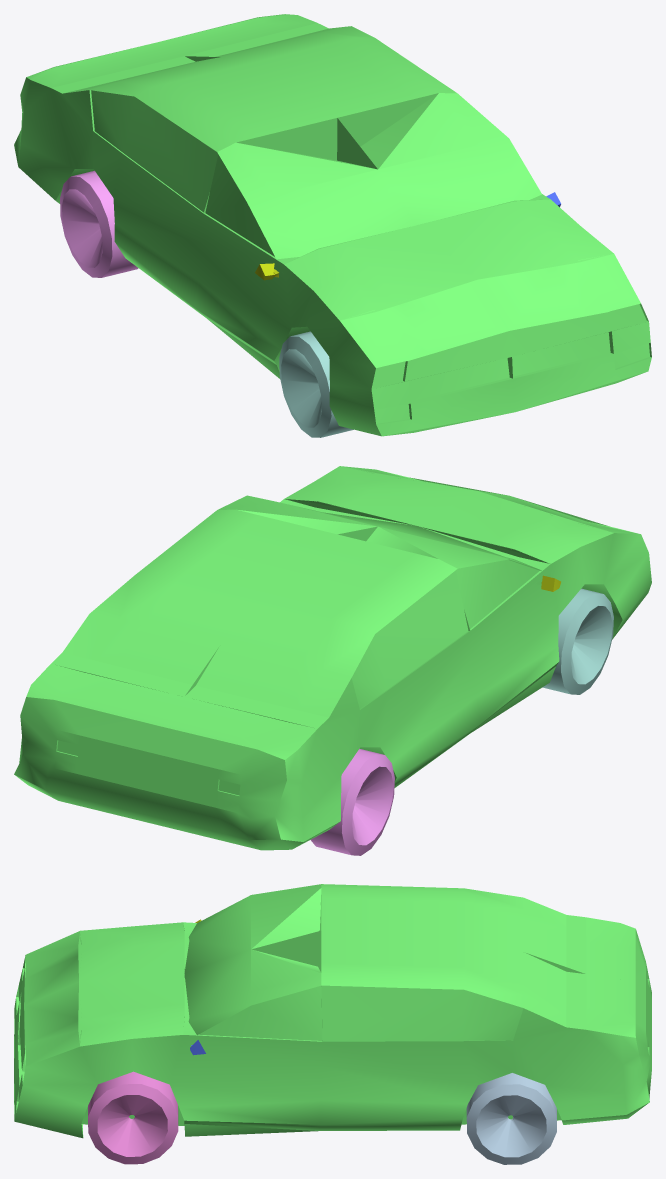
3 views of the same model, one above another, from view 1: azimuth 30°, elevation 25°; view 2: azimuth 150°, elevation 25°; view 3: azimuth 270°, elevation 25° (orthographic). The views are drawn at different scales.
Visible parts, largest first — view 1: split_parent_0, split_parent_2, Object_4.055; view 2: split_parent_0, split_parent_2, Object_4.055; view 3: split_parent_0, Object_4.114, Object_4.119.
Part boxes in pixels (x1,y1,x2,y2): split_parent_0: [14, 14, 651, 436]; split_parent_2: [60, 170, 138, 277]; Object_4.055: [279, 331, 353, 437]; split_parent_0: [14, 466, 651, 850]; split_parent_2: [311, 748, 394, 855]; Object_4.055: [542, 588, 613, 694]; split_parent_0: [14, 884, 651, 1138]; Object_4.114: [88, 1071, 178, 1164]; Object_4.119: [466, 1073, 556, 1164].
Size of the model in its own units: 0.4669 by 0.3035 by 1.
